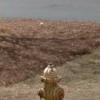Hydrant: (29, 56, 72, 100)
